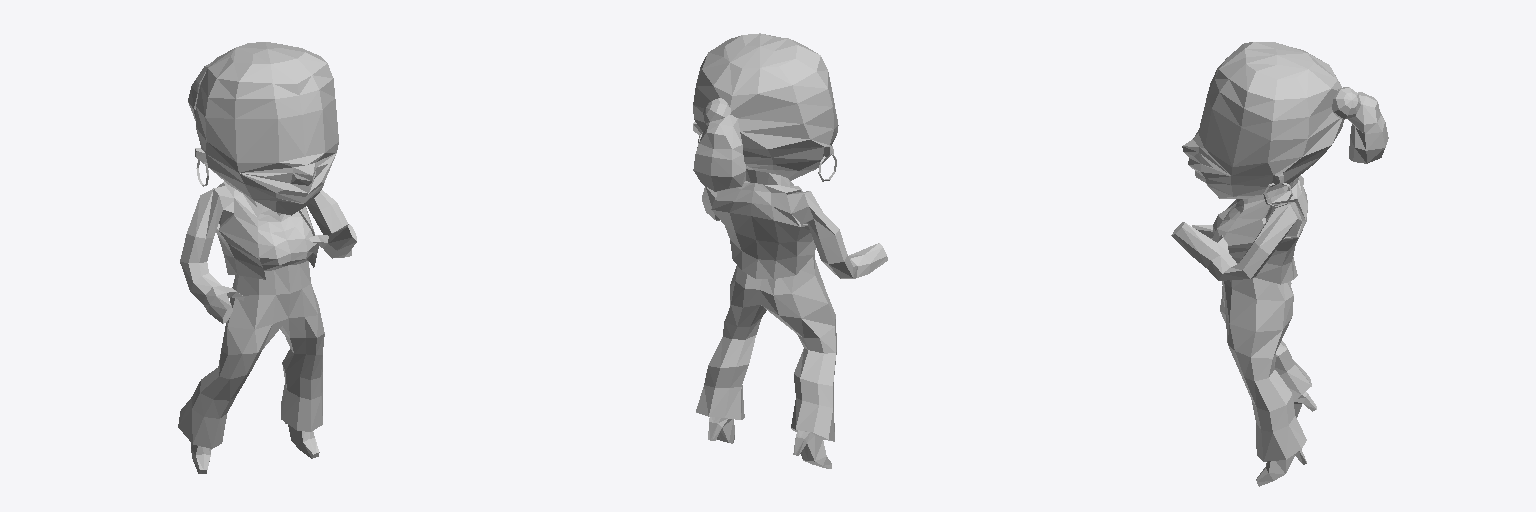
Rendered from bailarina_000173.obj.
3 views of the same model, side by side, from view 1: azimuth 30°, elevation 25°; view 2: azimuth 150°, elevation 25°; view 3: azimuth 270°, elevation 25° (orthographic).
Visible parts, largest first — view 1: bAilarina:Mesh; view 2: bAilarina:Mesh; view 3: bAilarina:Mesh.
Part boxes in pixels (x1,y1,x2,y2): bAilarina:Mesh: (178,42,356,473); bAilarina:Mesh: (693,33,887,468); bAilarina:Mesh: (1171,42,1388,486).
Size of the model in its own units: 6.78 by 17.39 by 8.33.